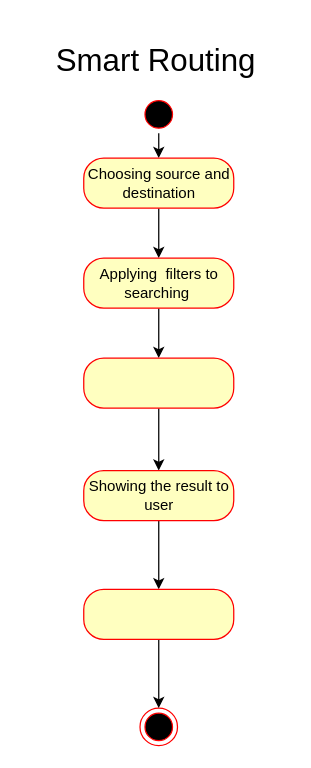
This 311x768 diagram has some shape labels left out. The shapes that lost their labels are listed below. From the top down, each one's centre as x and y in pixels, then its label:
At point 158,382: "request best result from server".
At point 158,613: "pin the best result and show it in main page".
